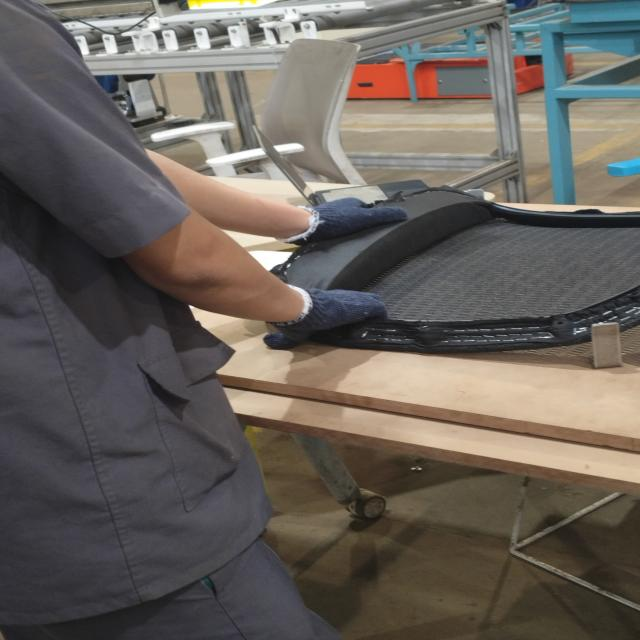Gloves-Detection: (276, 278, 393, 334), (295, 197, 410, 241)
